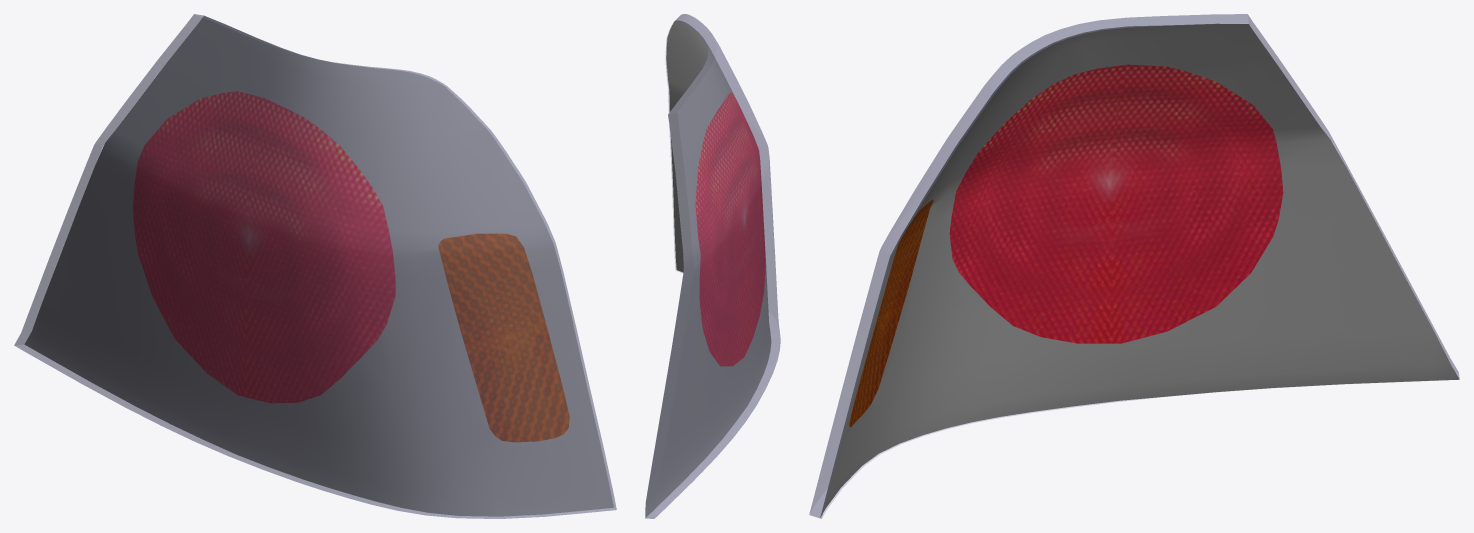
3 views of the same model, side by side, from view 1: azimuth 30°, elevation 25°; view 2: azimuth 150°, elevation 25°; view 3: azimuth 270°, elevation 25° (orthographic). The views are drawn at different scales.
Parts seen in each view (by area): view 1: U416_541C_R_U416_541C_R_4_DTaSI, U416_541C_R_U416_541C_R_3_DaS, U416_541C_R_U416_541C_R_2_N, U416_541C_R_1_N_U416_541C_R; view 2: U416_541C_R_U416_541C_R_4_DTaSI, U416_541C_R_U416_541C_R_3_DaS, U416_541C_R_U416_541C_R_2_N; view 3: U416_541C_R_U416_541C_R_3_DaS, U416_541C_R_U416_541C_R_2_N, U416_541C_R_U416_541C_R_4_DTaSI, U416_541C_R_1_N_U416_541C_R.
Boxes of the visible parts, x1,y1,x2,y2 form: U416_541C_R_U416_541C_R_4_DTaSI: (14,14,616,518); U416_541C_R_U416_541C_R_3_DaS: (24,16,613,516); U416_541C_R_U416_541C_R_2_N: (133,91,395,403); U416_541C_R_1_N_U416_541C_R: (438,233,569,442); U416_541C_R_U416_541C_R_4_DTaSI: (645,14,780,518); U416_541C_R_U416_541C_R_3_DaS: (645,20,771,517); U416_541C_R_U416_541C_R_2_N: (695,92,765,366); U416_541C_R_U416_541C_R_3_DaS: (820,23,1459,516); U416_541C_R_U416_541C_R_2_N: (949,64,1283,343); U416_541C_R_U416_541C_R_4_DTaSI: (809,14,1459,518); U416_541C_R_1_N_U416_541C_R: (849,199,933,427).
Size of the model in its own units: 20.23 by 26.92 by 38.91.
